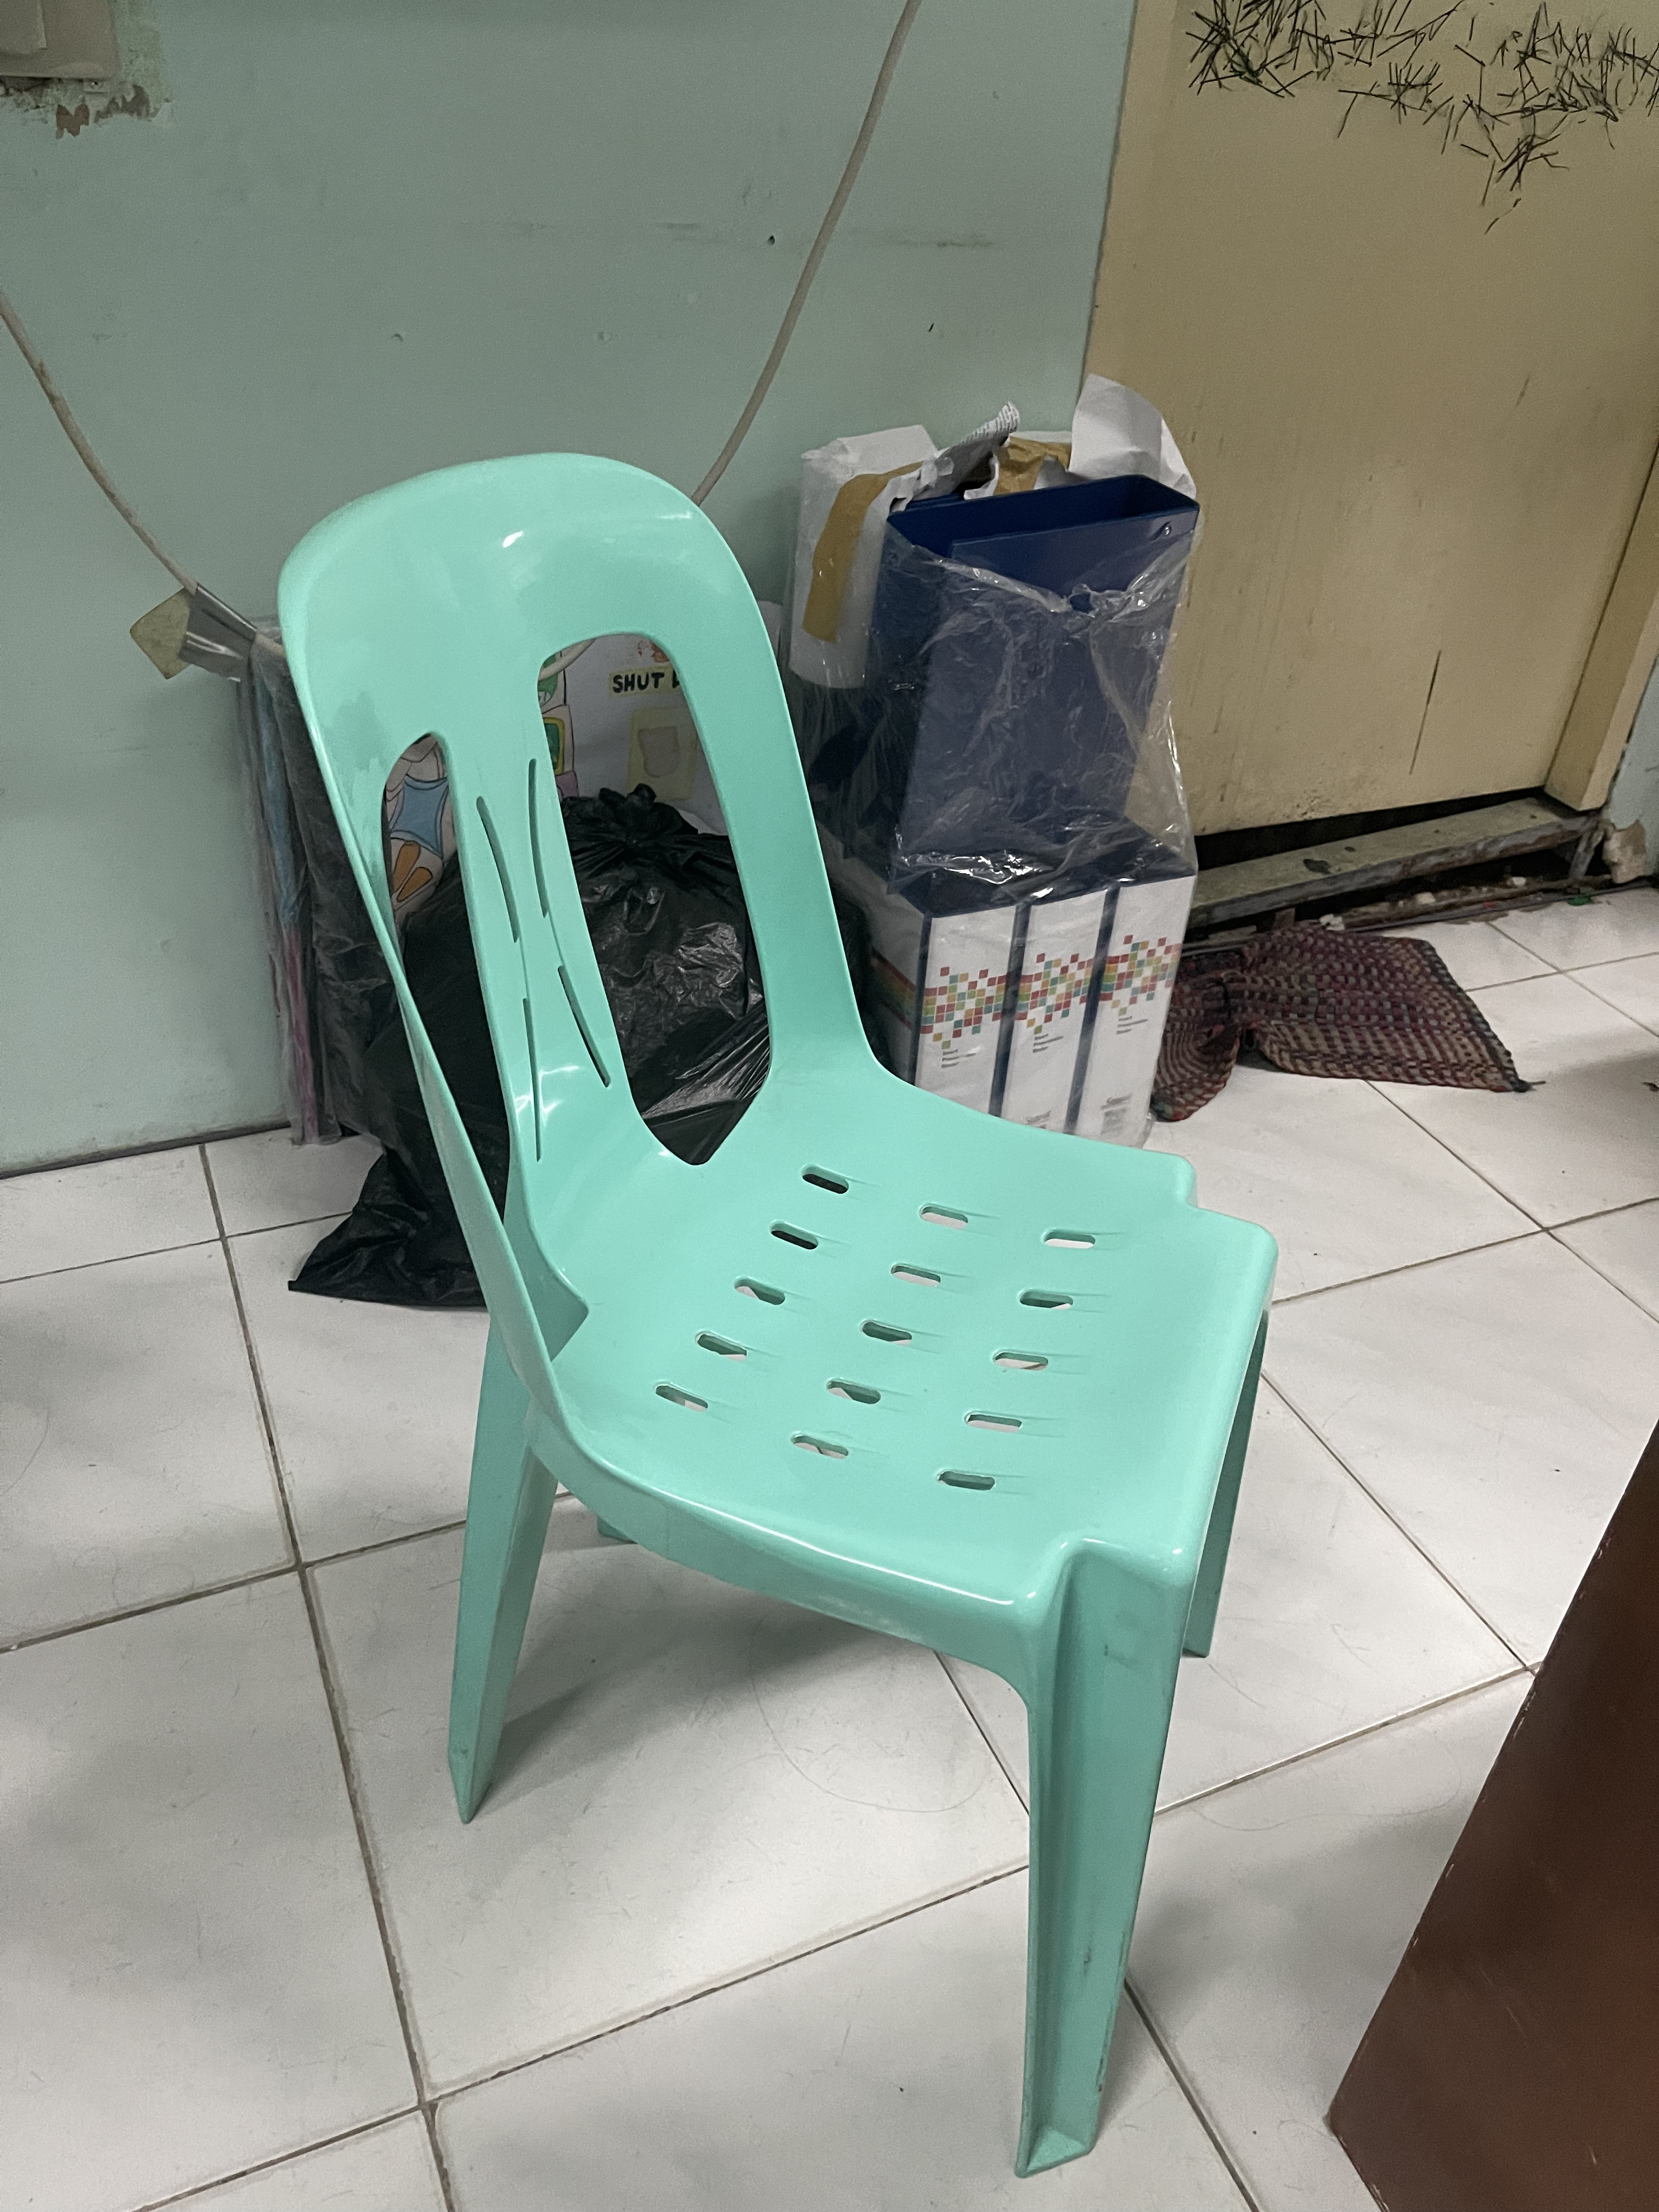chair2: (267, 446, 1290, 2179)
